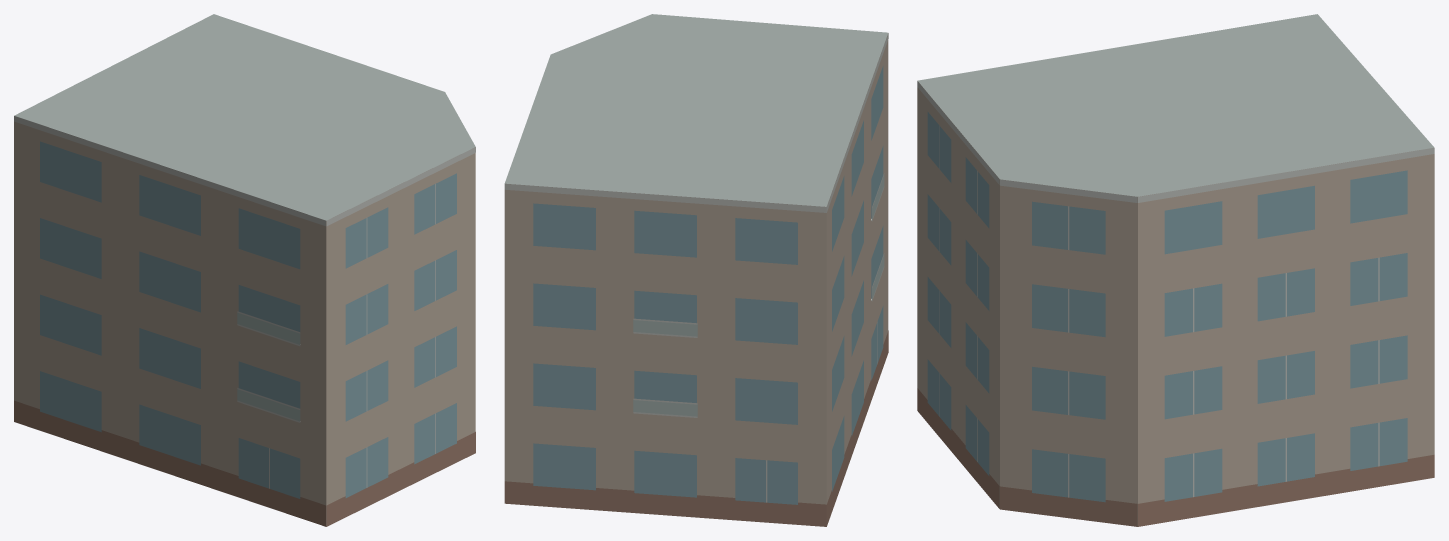
File: survey-upis-32983685.glb
3 views of the same model, side by side, from view 1: azimuth 30°, elevation 25°; view 2: azimuth 150°, elevation 25°; view 3: azimuth 270°, elevation 25° (orthographic). The views are drawn at different scales.
Parts seen in each view (by area): view 1: survey-upis-32983685.tmp; view 2: survey-upis-32983685.tmp; view 3: survey-upis-32983685.tmp.
Boxes of the visible parts, <box> form: survey-upis-32983685.tmp: <box>14,14,475,526</box>; survey-upis-32983685.tmp: <box>504,14,888,526</box>; survey-upis-32983685.tmp: <box>917,14,1434,526</box>.
Size of the model in its own units: 15.21 by 12.8 by 18.19.
